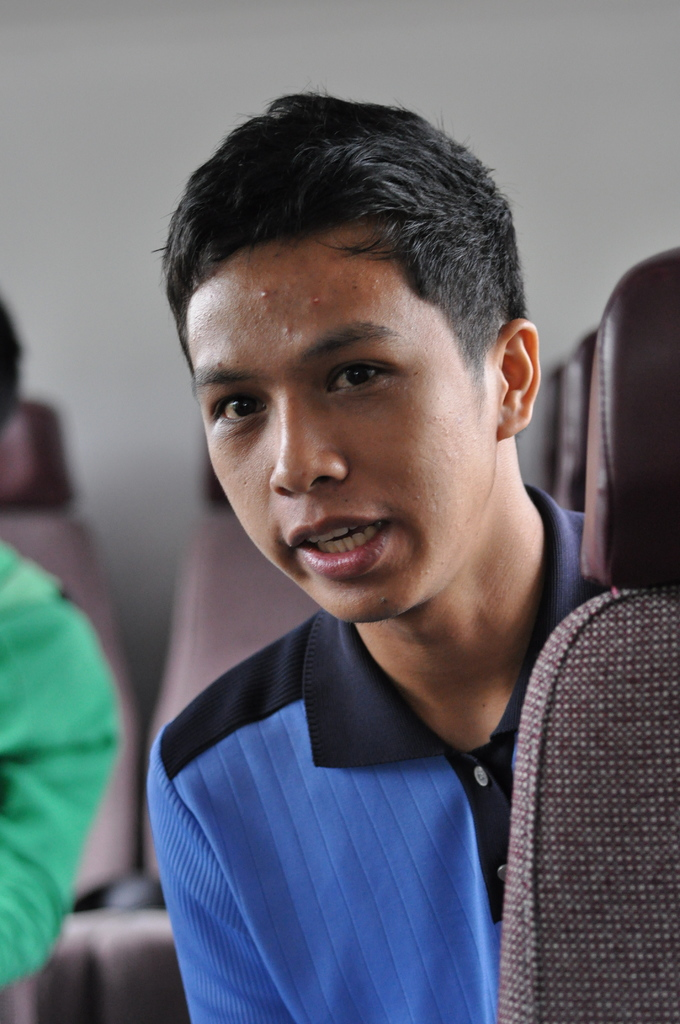Human-face: (207, 232, 493, 631)
